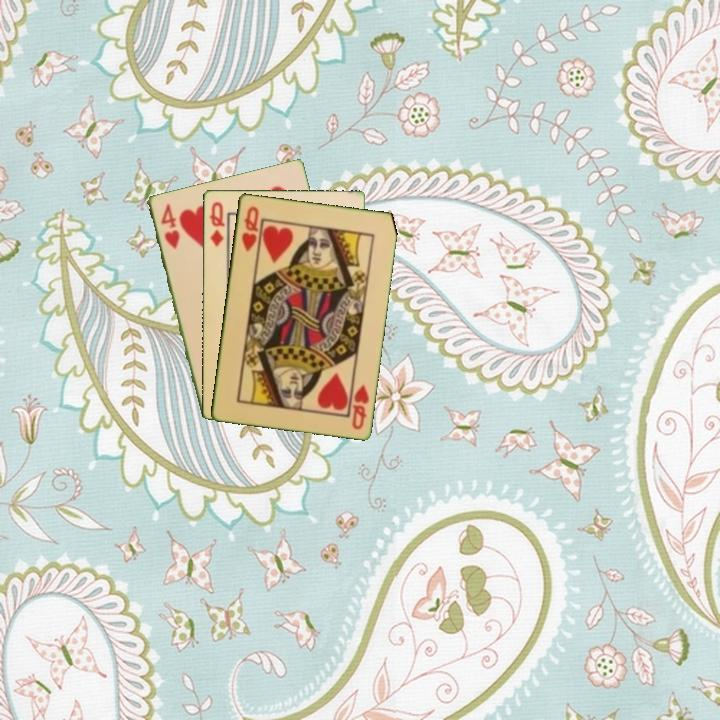4h: (157, 200, 182, 252)
Qd: (206, 198, 227, 249)
Qh: (348, 380, 371, 432), (238, 203, 261, 254)
